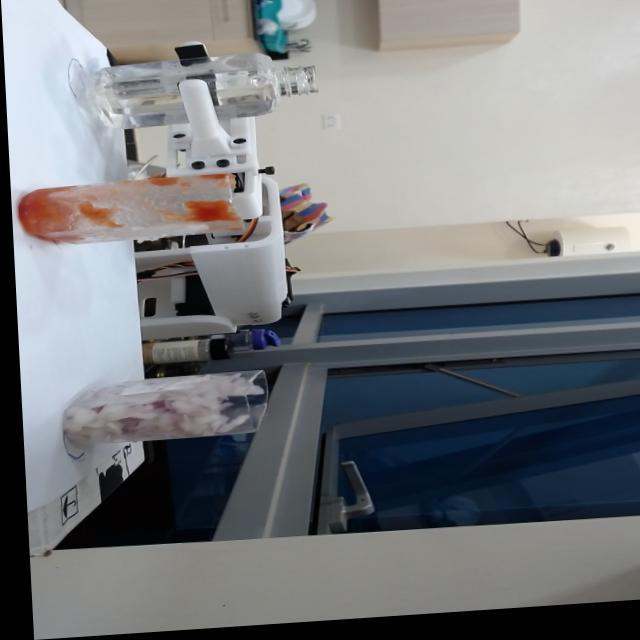blended_tomatoes_pepper: (8, 176, 228, 250)
sliced_onions: (57, 371, 251, 455)
water: (80, 60, 233, 135)
